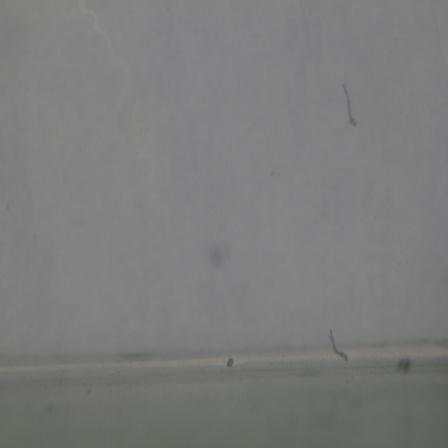Jentik-Nyamuk: (339, 78, 363, 133), (326, 325, 353, 365)
